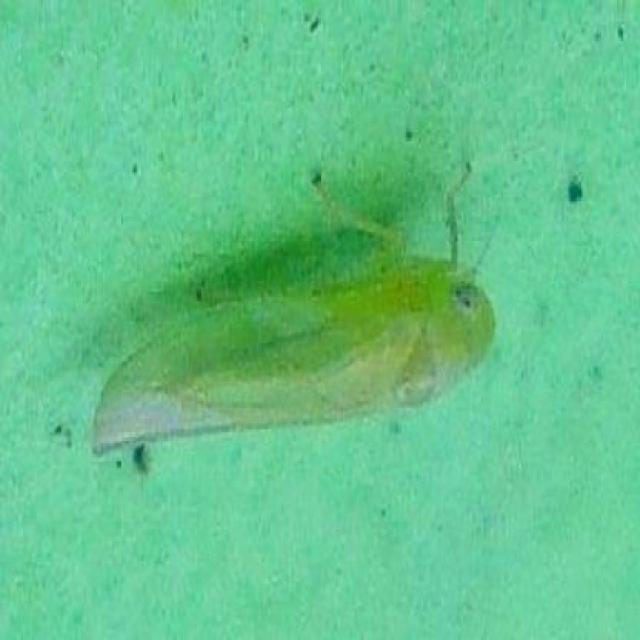green-leafhopper: (86, 257, 505, 451)
